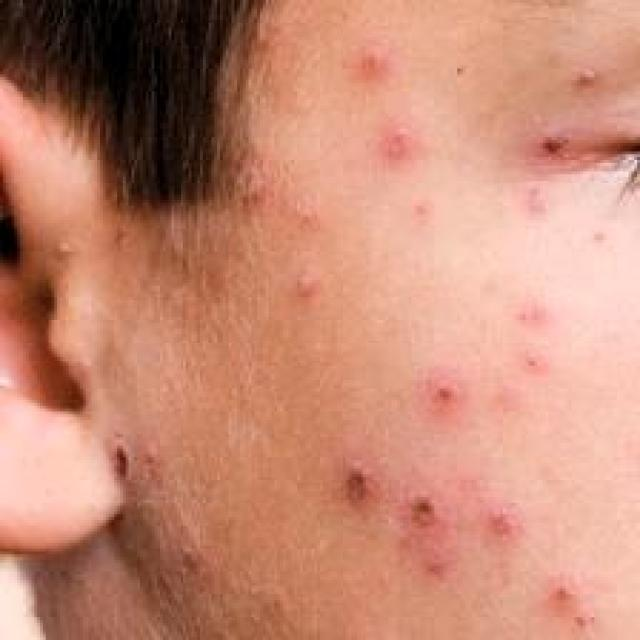others: (228, 19, 640, 640)
